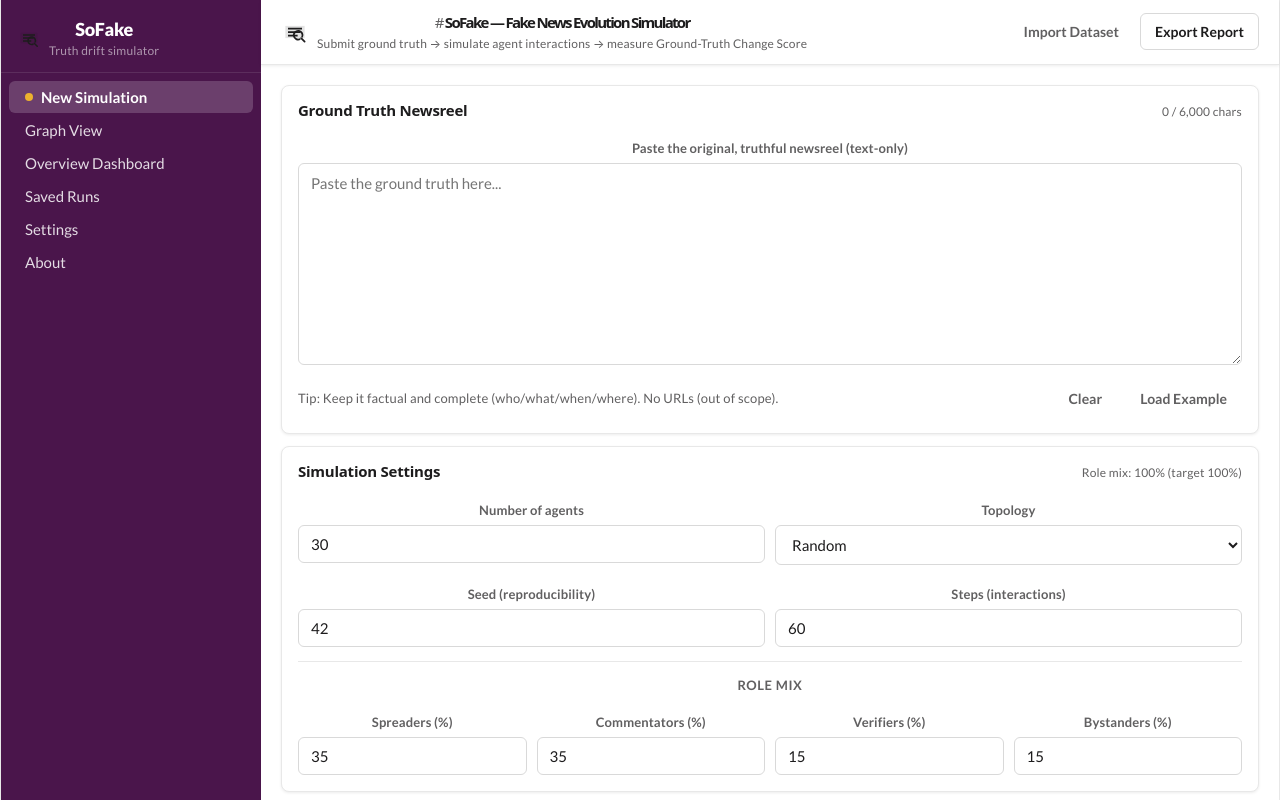
Test: SoFake Frontend Unit Tests › should navigate to Graph View when sidebar item is clicked
Click the button "Graph View".
click(131, 130)  # box top-left (9, 114), bottom-right (253, 146)
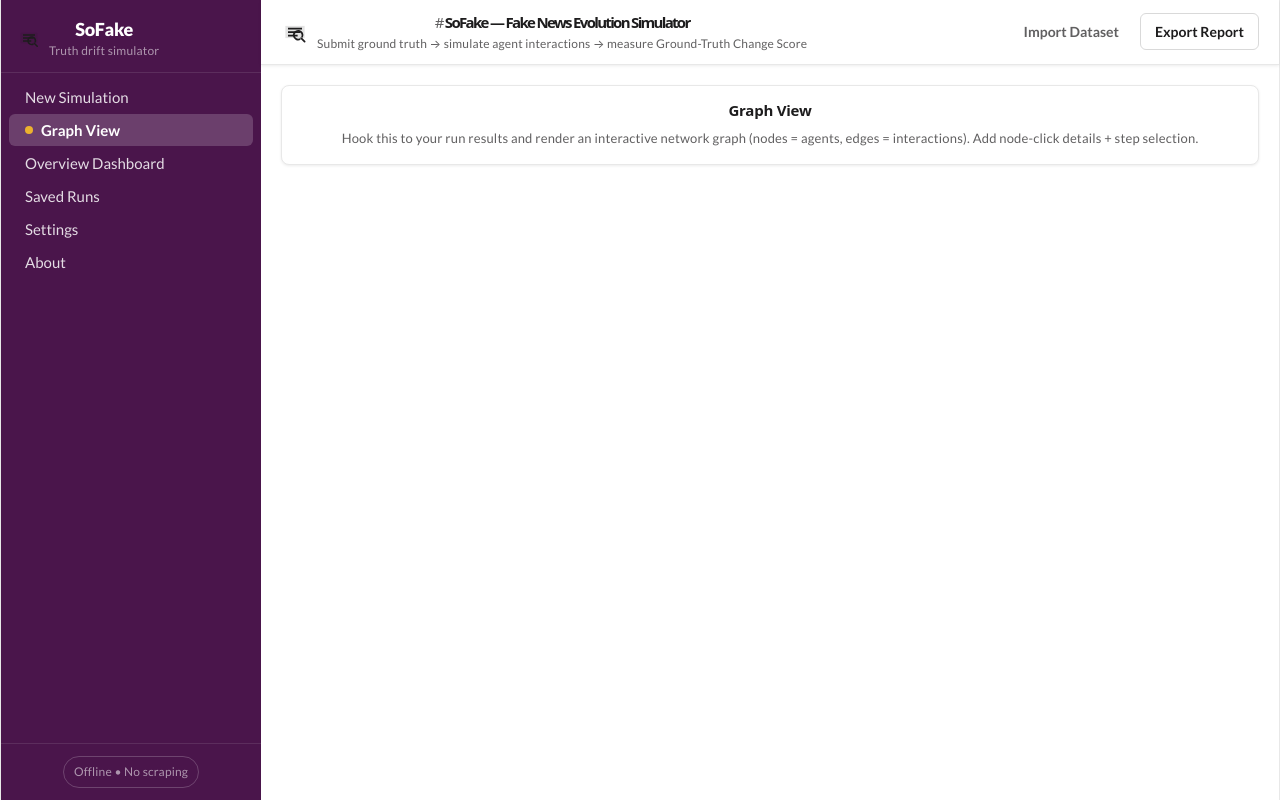
Expected: the text "Hook this to your run results" is shown, top-left (342, 130), bottom-right (1198, 146)
